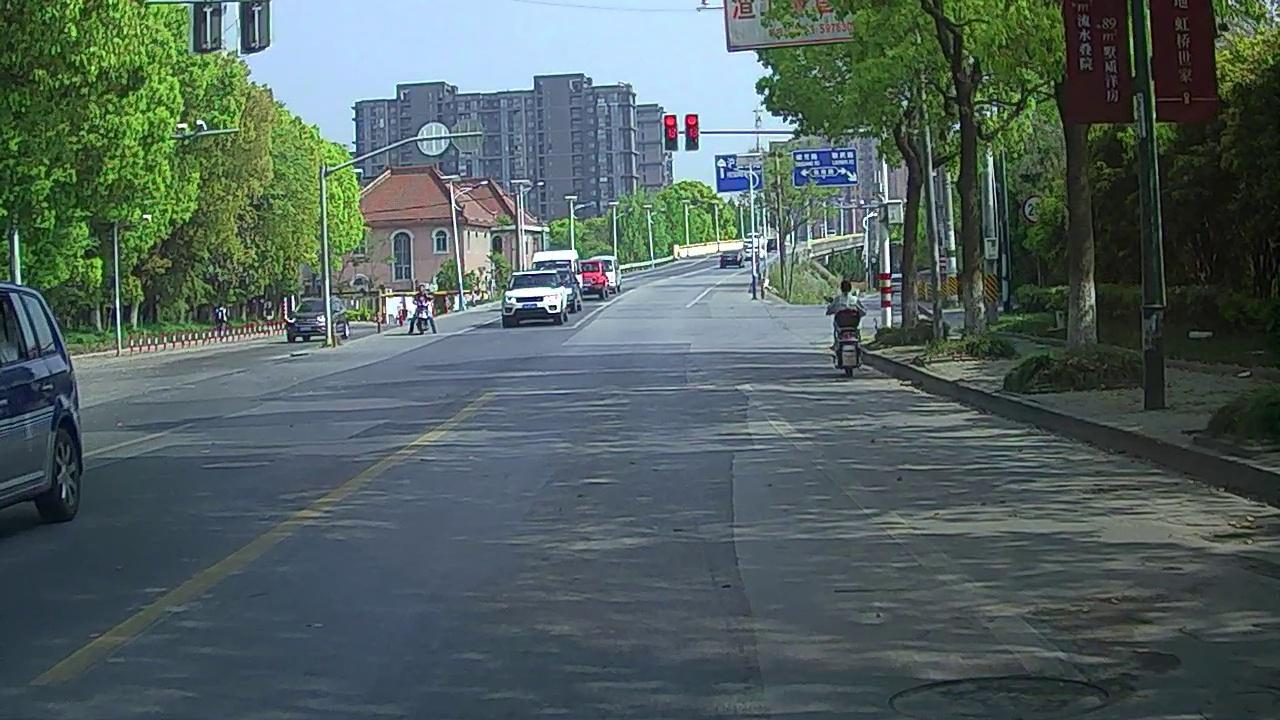traffic_light: (686, 114, 699, 151), (665, 114, 677, 151)
